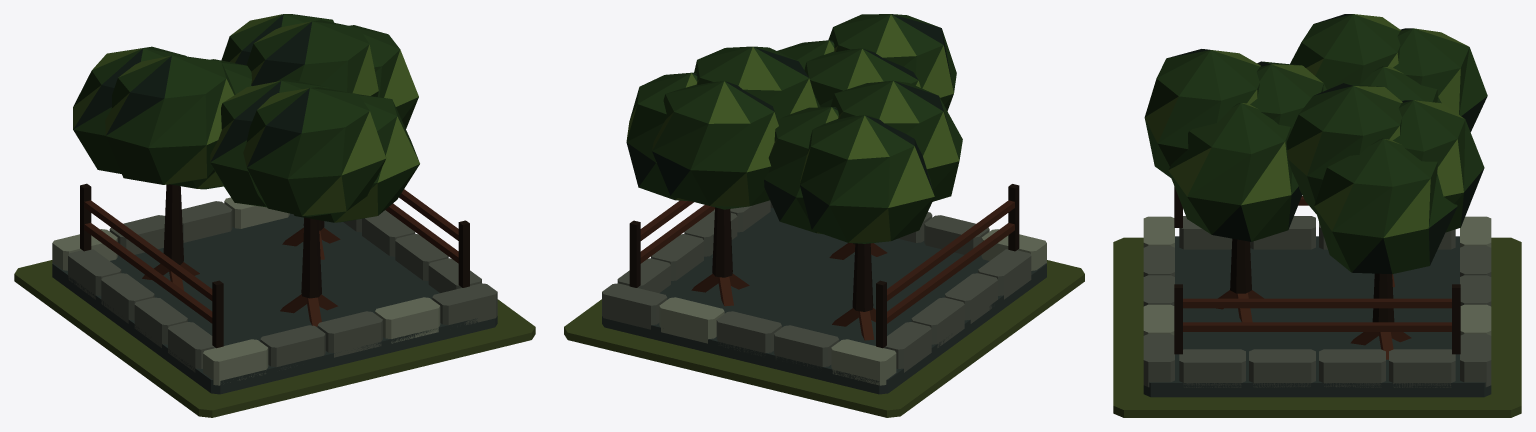
The model's file is grove_t3.glb.
The picture shows the model from 3 angles, left to right: view 1: azimuth 30°, elevation 25°; view 2: azimuth 150°, elevation 25°; view 3: azimuth 270°, elevation 25°; orthographic projection. The views are drawn at different scales.
Visible parts, largest first — view 1: MMR | grove | T03 Architecture.001, MMR | grove | Tier 03 Ground.001; view 2: MMR | grove | T03 Architecture.001, MMR | grove | Tier 03 Ground.001; view 3: MMR | grove | T03 Architecture.001, MMR | grove | Tier 03 Ground.001.
Part boxes in pixels (x1,y1,x2,y2): MMR | grove | T03 Architecture.001: (52, 14, 497, 394); MMR | grove | Tier 03 Ground.001: (14, 260, 535, 417); MMR | grove | T03 Architecture.001: (602, 14, 1046, 394); MMR | grove | Tier 03 Ground.001: (564, 260, 1084, 417); MMR | grove | T03 Architecture.001: (1143, 14, 1491, 397); MMR | grove | Tier 03 Ground.001: (1113, 237, 1521, 417).
Size of the model in its own units: 2.35 by 1.74 by 2.35.
1 material, 1 textured.
